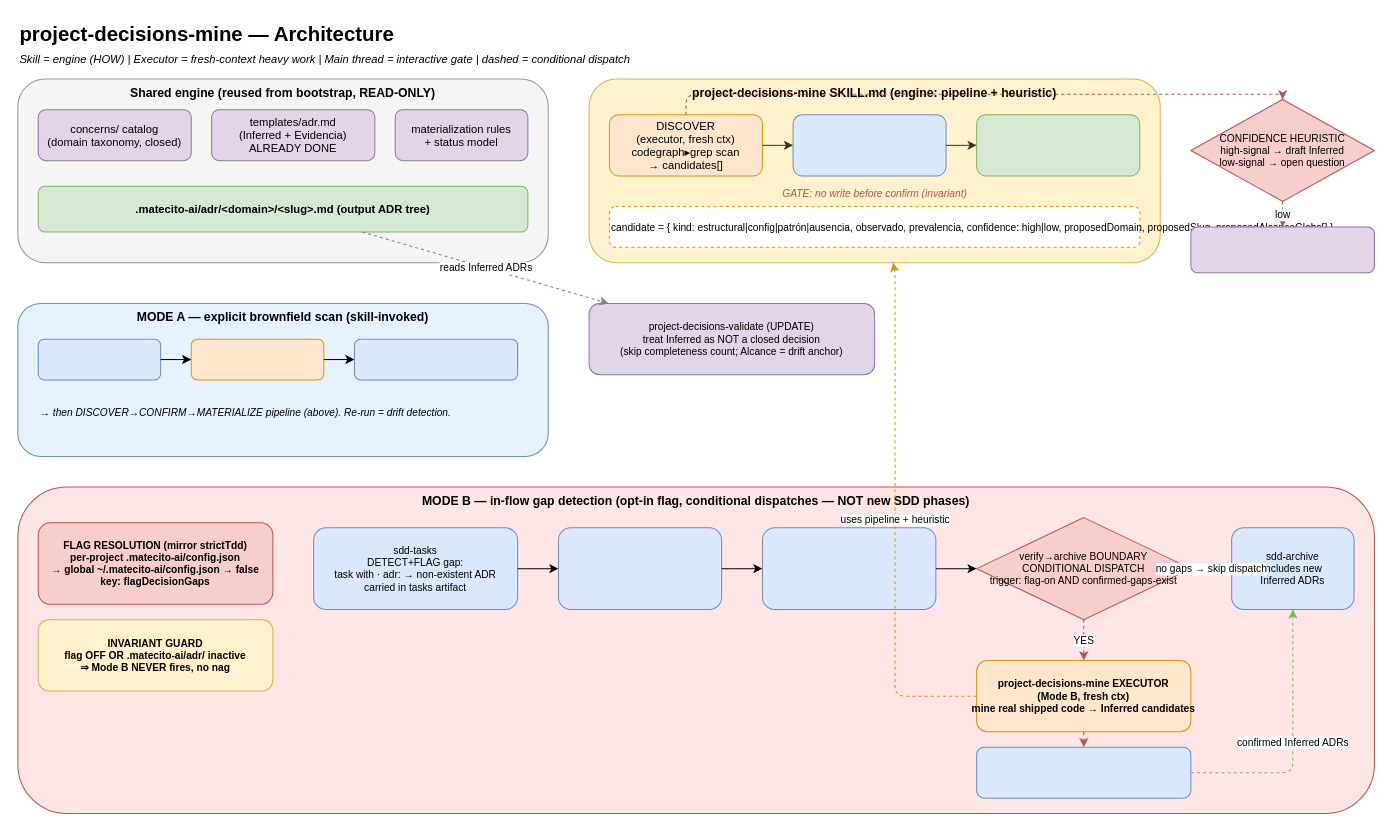
The diagram is 1392 pixels wide and 831 high, and some of its shapes have lost their labels. Here are the shapes that lost their labels. From the top down, the centre of each, then its label:
the point at 869,145: CONFIRM (main thread) render gate, user confirms
the point at 1058,145: MATERIALIZE (write step) write Inferred ADRs via templates/adr.md
the point at 1282,249: bootstrap (open question, NOT empty Inferred)
the point at 99,359: user invokes skill
the point at 257,359: scan repo (executor: discover)
the point at 435,359: discovery report (consultative, NO writes)
the point at 639,568: sdd-apply implements the task (ships real code)
the point at 848,568: sdd-verify CONFIRM which flagged gaps got implemented in shipped code
the point at 1083,772: GATE in main thread present candidates, user confirms
